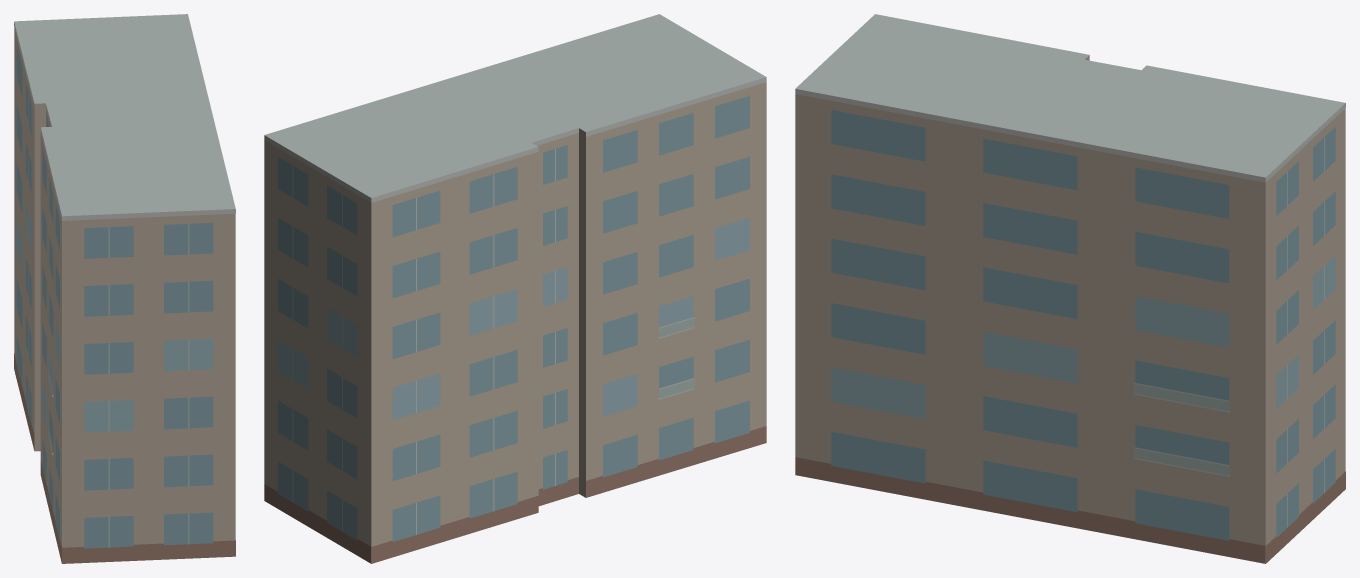
Rendered from survey-upis-32551097.glb.
3 renders of one model, left to right at view 1: azimuth 30°, elevation 25°; view 2: azimuth 150°, elevation 25°; view 3: azimuth 270°, elevation 25°, orthographic. The views are drawn at different scales.
Parts seen in each view (by area): view 1: survey-upis-32551097.tmp; view 2: survey-upis-32551097.tmp; view 3: survey-upis-32551097.tmp.
Part boxes in pixels (box(x1,y1,x2,y2)): survey-upis-32551097.tmp: box(14, 14, 235, 563); survey-upis-32551097.tmp: box(264, 14, 766, 563); survey-upis-32551097.tmp: box(795, 14, 1345, 563).
Bounding box in the file's own units: 16.63 × 18.3 × 23.65.
